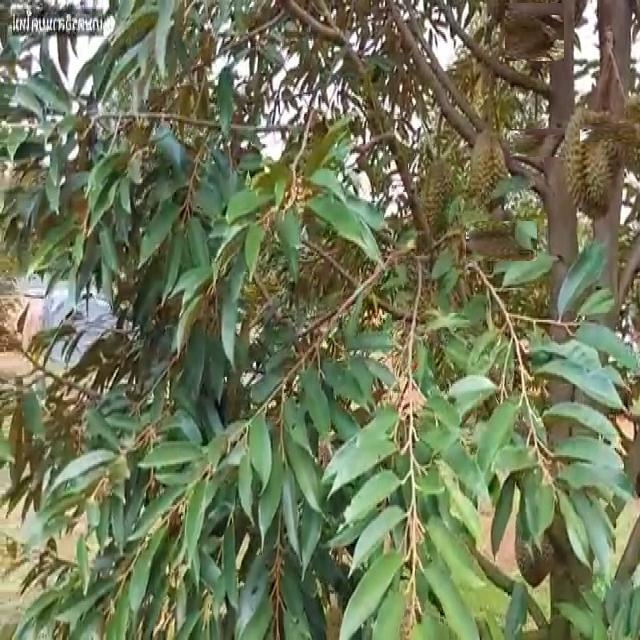durian: (562, 102, 619, 218), (469, 124, 510, 213), (505, 2, 565, 62), (420, 151, 458, 241), (474, 213, 530, 270), (599, 102, 640, 161), (514, 122, 558, 165)
